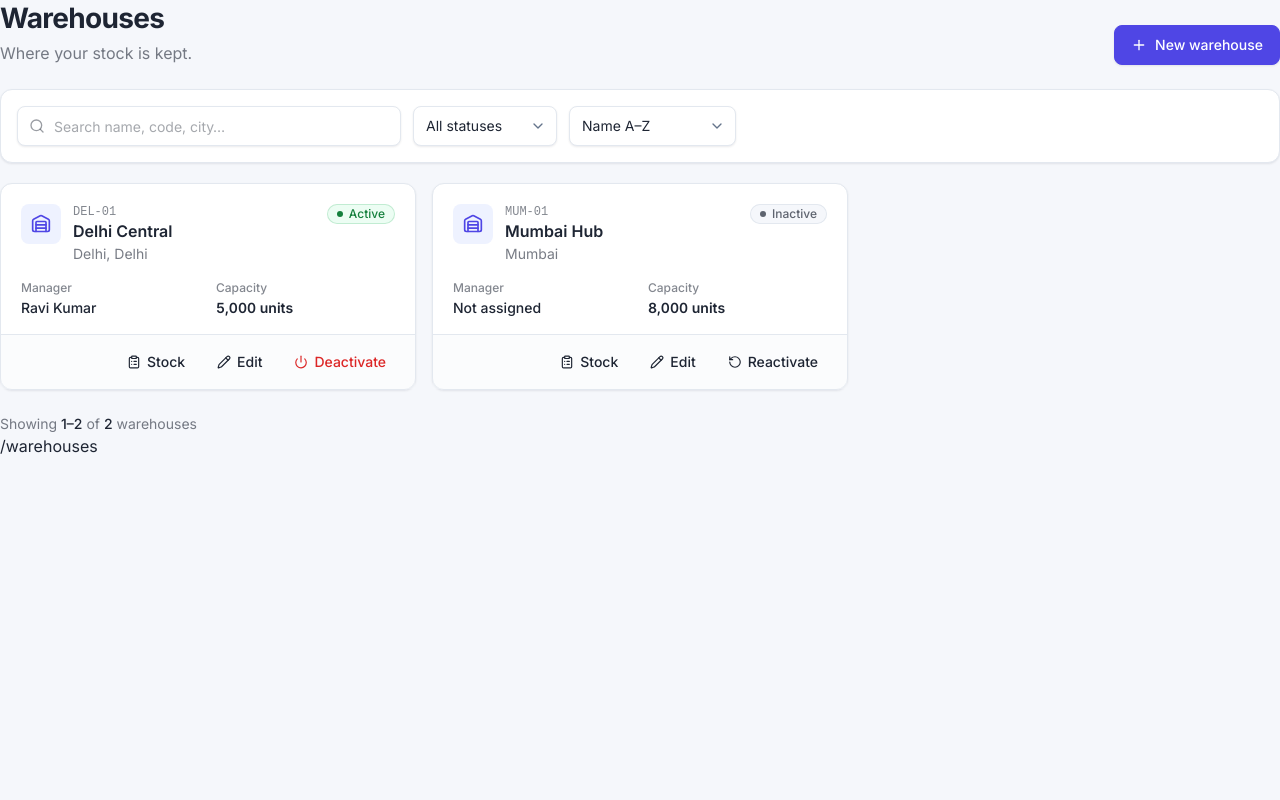
it: WarehousesPage › the form validates code and capacity
Check: the heading "Delhi Central" is shown, box 73,221 -> 172,241
Click the button "New warehouse" at (1197, 45), box 1114,25 -> 1279,65
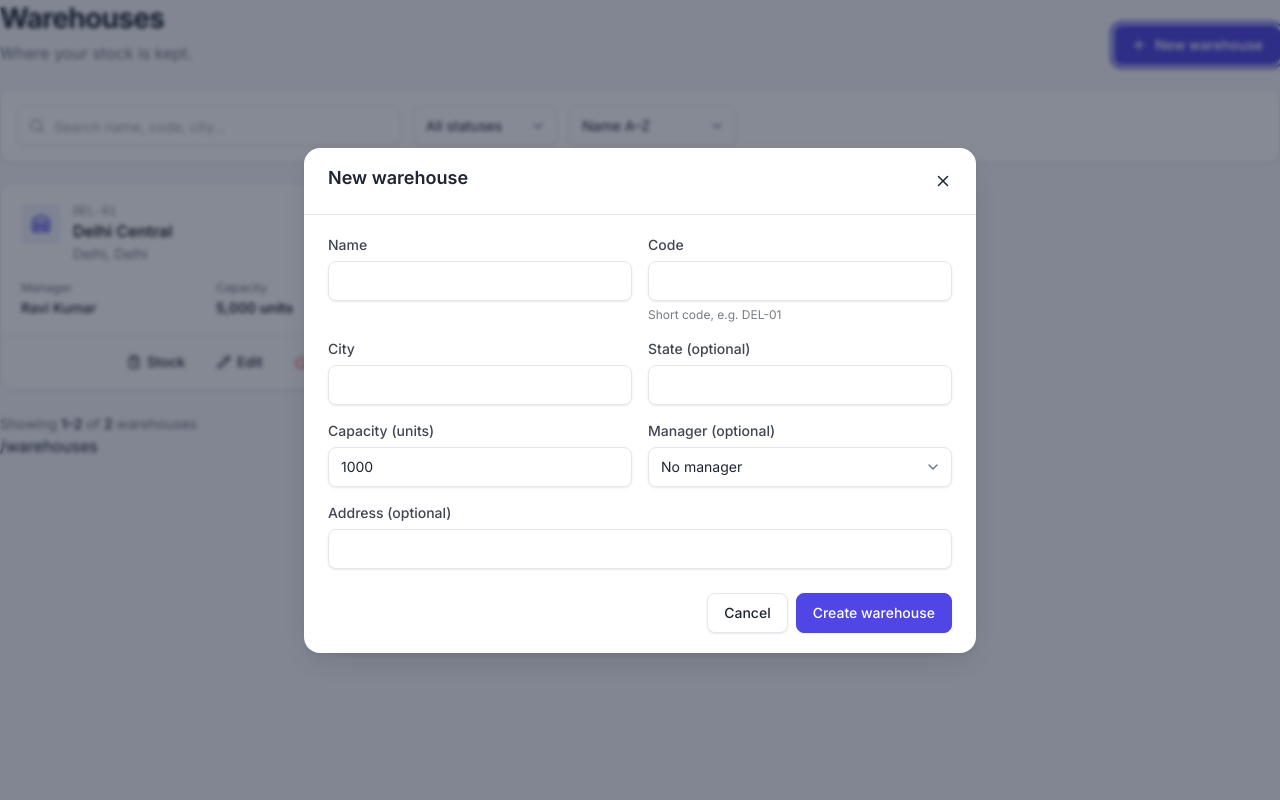
Type "no spaces" into the field labelled "Code" at (800, 280), box 648,260 -> 952,300
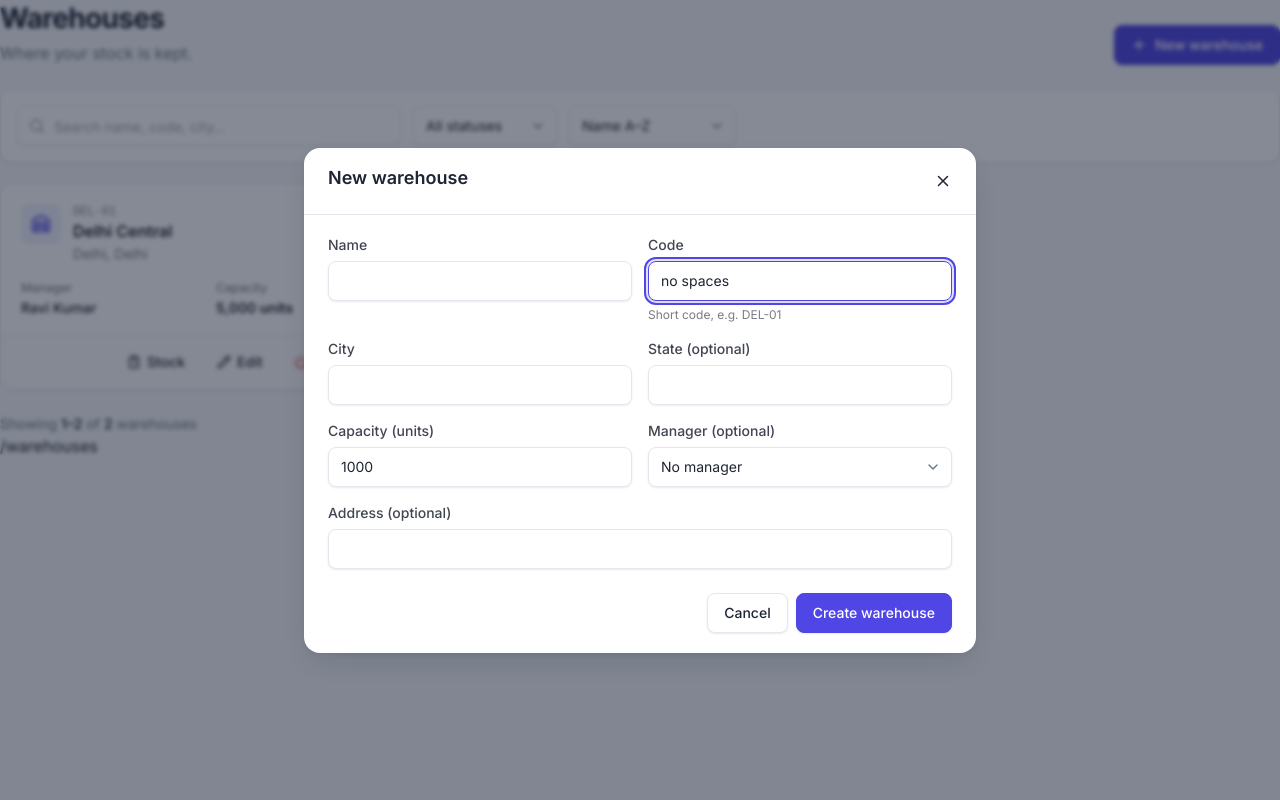
Clear the number field labelled "Capacity (units)" at (480, 466), box 328,446 -> 632,486
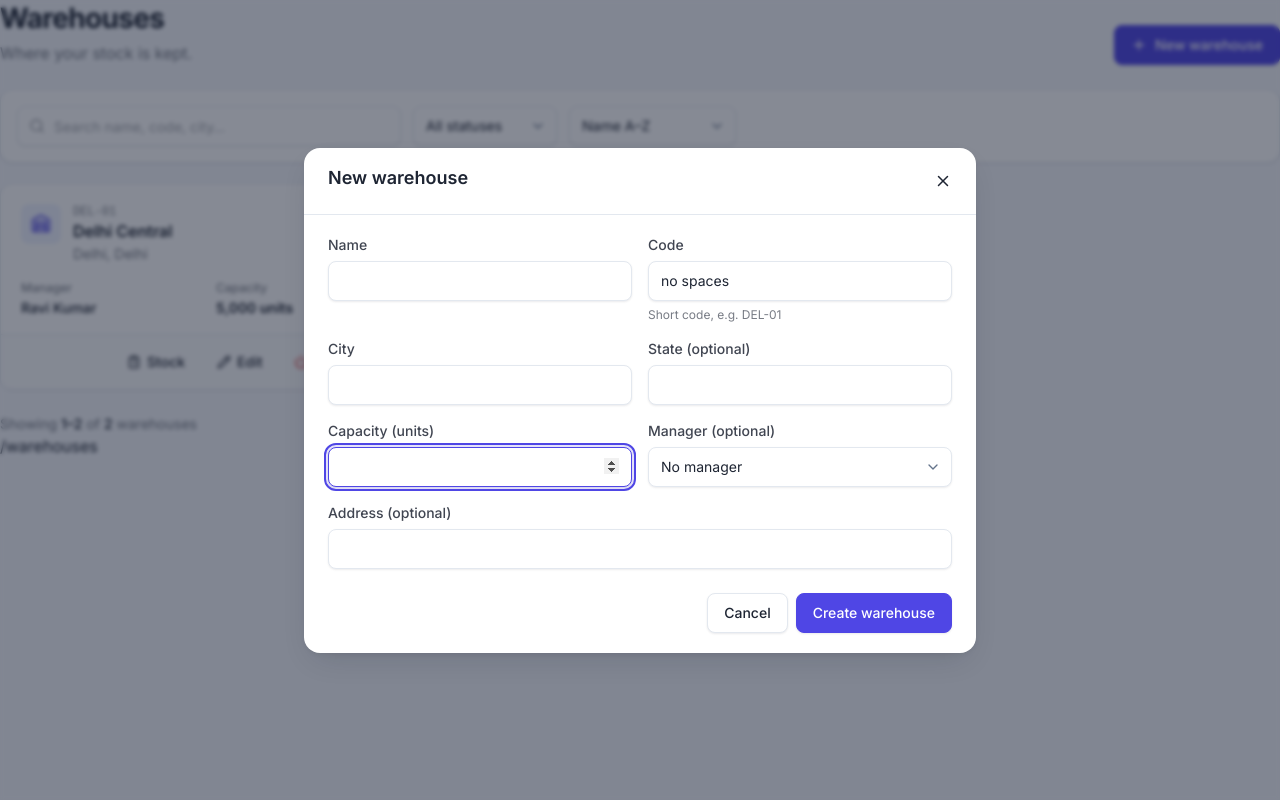
Click the button "Create warehouse" at (874, 612), box 796,592 -> 952,632
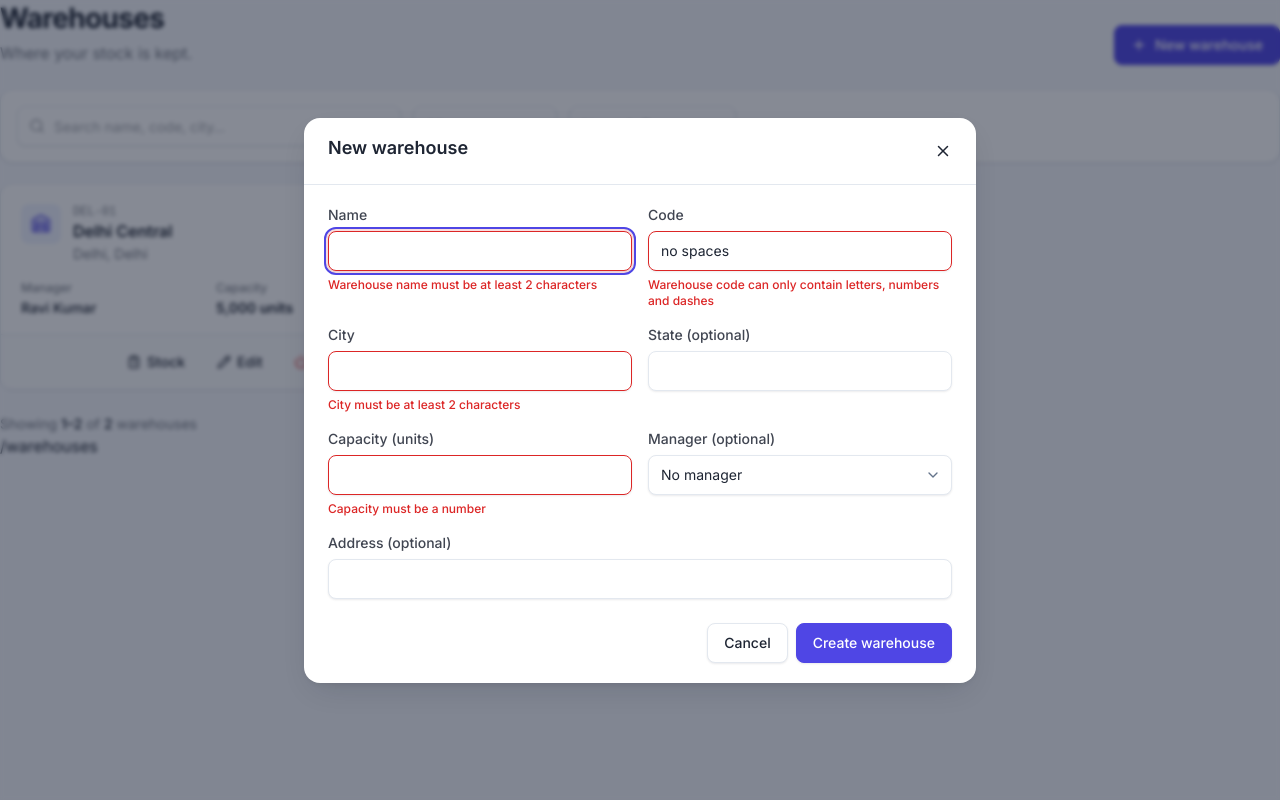
Check: the text "Warehouse code can only contain letters, numbers and dashes" is shown, box 648,276 -> 952,308
Check: the text "Capacity must be a number" is shown, box 328,500 -> 486,516
